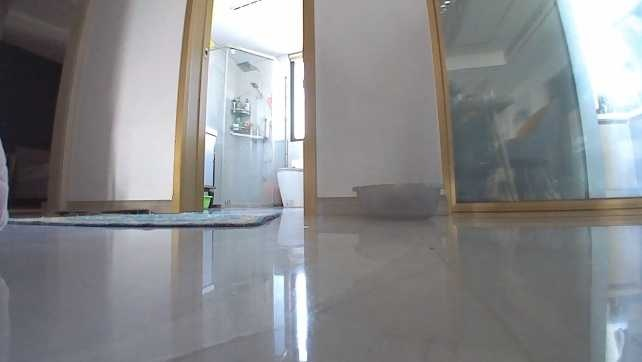blanket: (5, 210, 284, 230)
toilet: (273, 164, 304, 210)
